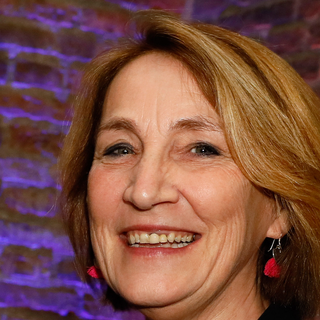eye: (176, 139, 226, 159), (100, 136, 136, 162)
